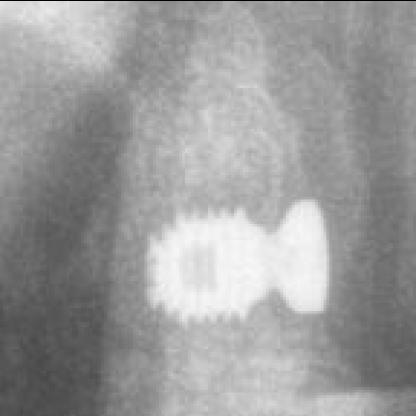Bicon: (142, 199, 265, 327)
